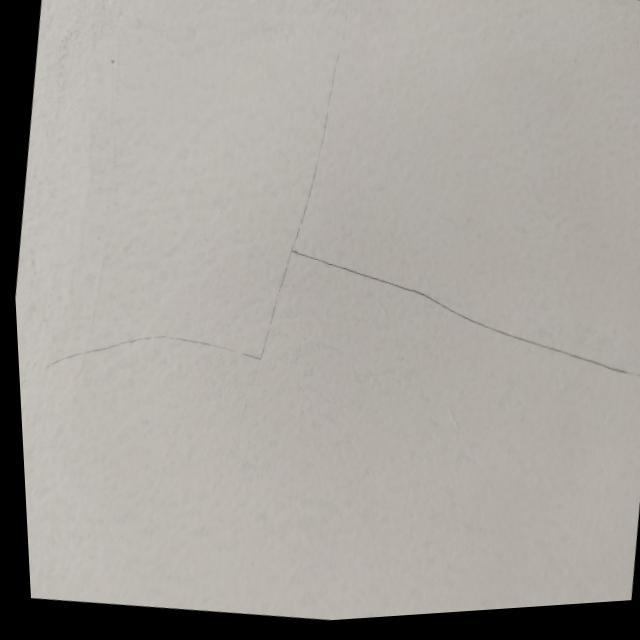Crack: (38, 242, 631, 375)
